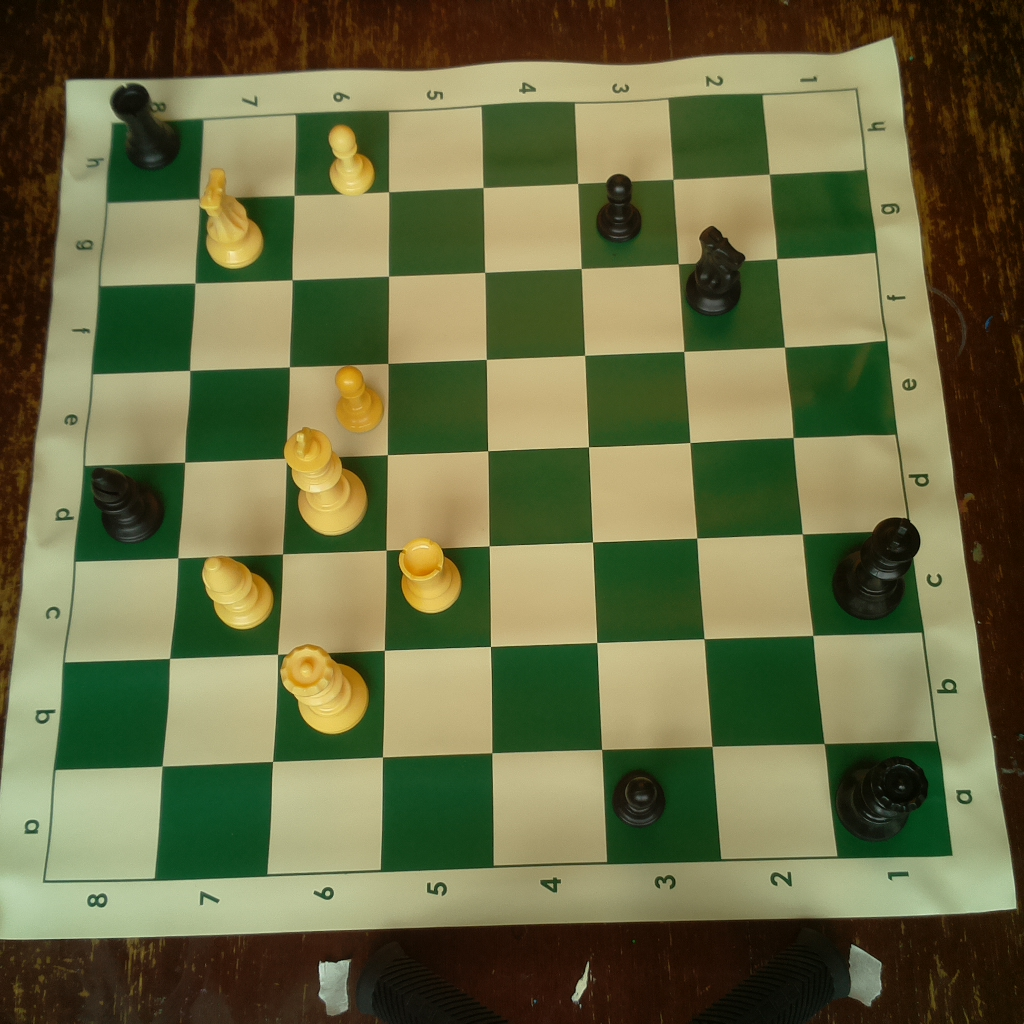black_bishop: (86, 461, 171, 549)
black_king: (827, 514, 923, 623)
black_knight: (683, 222, 751, 317)
black_pawn: (592, 170, 651, 241), (614, 760, 672, 827)
black_queen: (836, 749, 932, 845)
black_rook: (107, 79, 184, 170)
file_a: (45, 740, 954, 882)
file_b: (54, 634, 940, 770)
file_c: (62, 531, 924, 662)
file_d: (75, 434, 911, 562)
file_e: (81, 341, 897, 467)
file_f: (92, 251, 885, 373)
file_g: (101, 171, 877, 287)
file_h: (106, 90, 867, 205)
outline: (42, 90, 954, 882)
rank_1: (760, 88, 951, 858)
rank_2: (667, 95, 837, 860)
rank_3: (576, 97, 725, 865)
rank_4: (483, 104, 608, 865)
rank_5: (379, 104, 496, 871)
rank_6: (267, 109, 389, 874)
rank_7: (154, 113, 296, 884)
rank_8: (45, 119, 206, 886)
white_bishop: (196, 551, 275, 632)
white_king: (279, 422, 371, 538)
white_knight: (192, 169, 266, 270)
white_pawn: (323, 119, 377, 199), (329, 362, 390, 432)
white_queen: (275, 638, 370, 738)
white_rook: (390, 531, 470, 618)
